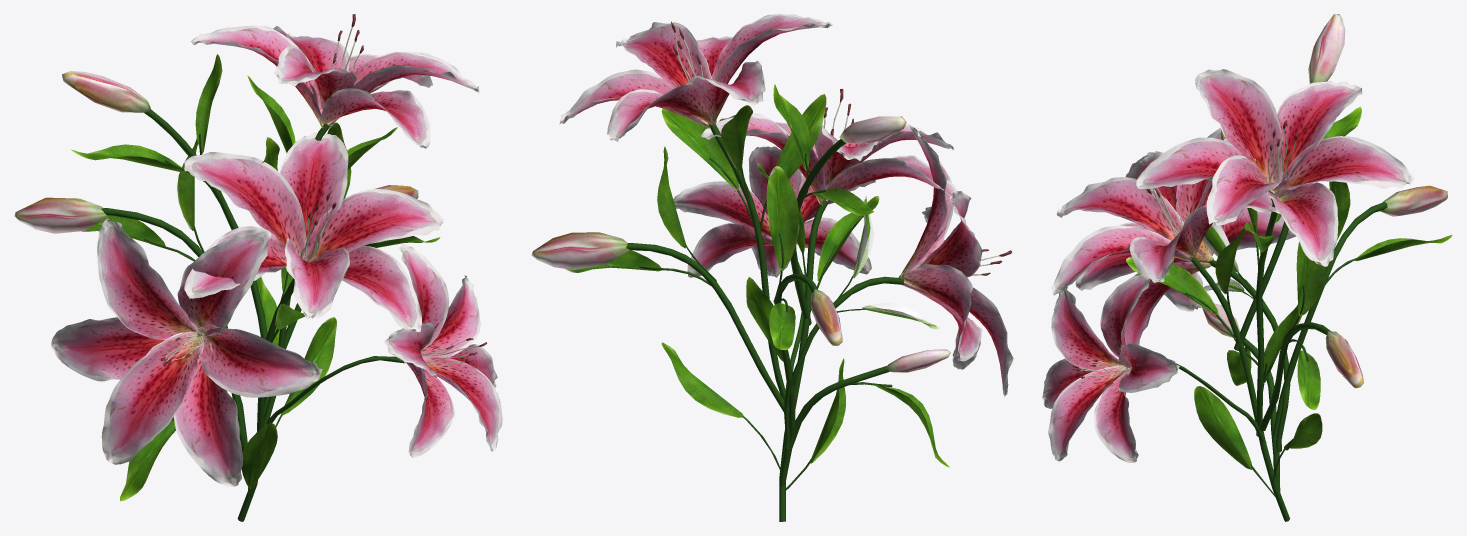
File: lilies.glb
3 views of the same model, side by side, from view 1: azimuth 30°, elevation 25°; view 2: azimuth 150°, elevation 25°; view 3: azimuth 270°, elevation 25° (orthographic). The views are drawn at different scales.
Parts seen in each view (by area): view 1: Plane.066_petal_0, Plane.066_leaf_0, Plane.066_stem_0, Plane.066_petal.001_0, Plane.066_stamen_0; view 2: Plane.066_petal_0, Plane.066_leaf_0, Plane.066_stem_0, Plane.066_petal.001_0; view 3: Plane.066_petal_0, Plane.066_leaf_0, Plane.066_stem_0, Plane.066_petal.001_0, Plane.066_stamen_0.
Boxes of the visible parts, x1,y1,x2,y2 form: Plane.066_petal_0: [51, 25, 502, 486]; Plane.066_leaf_0: [71, 54, 440, 501]; Plane.066_stem_0: [101, 109, 404, 521]; Plane.066_petal.001_0: [14, 71, 418, 420]; Plane.066_stamen_0: [165, 27, 478, 365]; Plane.066_petal_0: [559, 14, 1013, 396]; Plane.066_leaf_0: [565, 84, 949, 467]; Plane.066_stem_0: [626, 123, 904, 521]; Plane.066_petal.001_0: [531, 116, 950, 372]; Plane.066_petal_0: [1042, 69, 1413, 462]; Plane.066_leaf_0: [1126, 106, 1452, 469]; Plane.066_stem_0: [1131, 194, 1387, 521]; Plane.066_petal.001_0: [1201, 14, 1447, 388]; Plane.066_stamen_0: [1078, 129, 1295, 377].
Size of the model in its own units: 5013 by 5745 by 4707.
6 materials, 3 textured.
